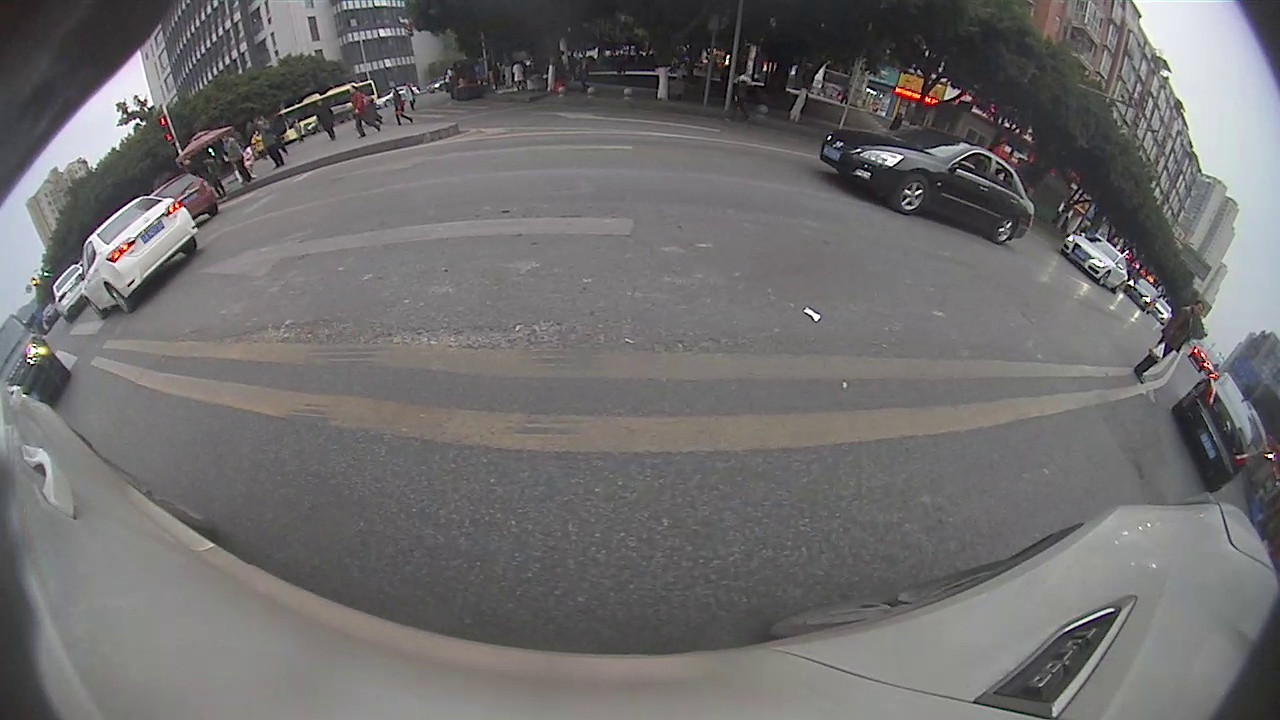car: (818, 126, 1037, 249), (76, 193, 199, 319), (1171, 372, 1256, 493), (2, 311, 70, 403), (1062, 229, 1130, 295)
front: (890, 171, 931, 218)
person: (1138, 296, 1203, 384)
rear: (103, 283, 131, 316), (992, 213, 1019, 244)
